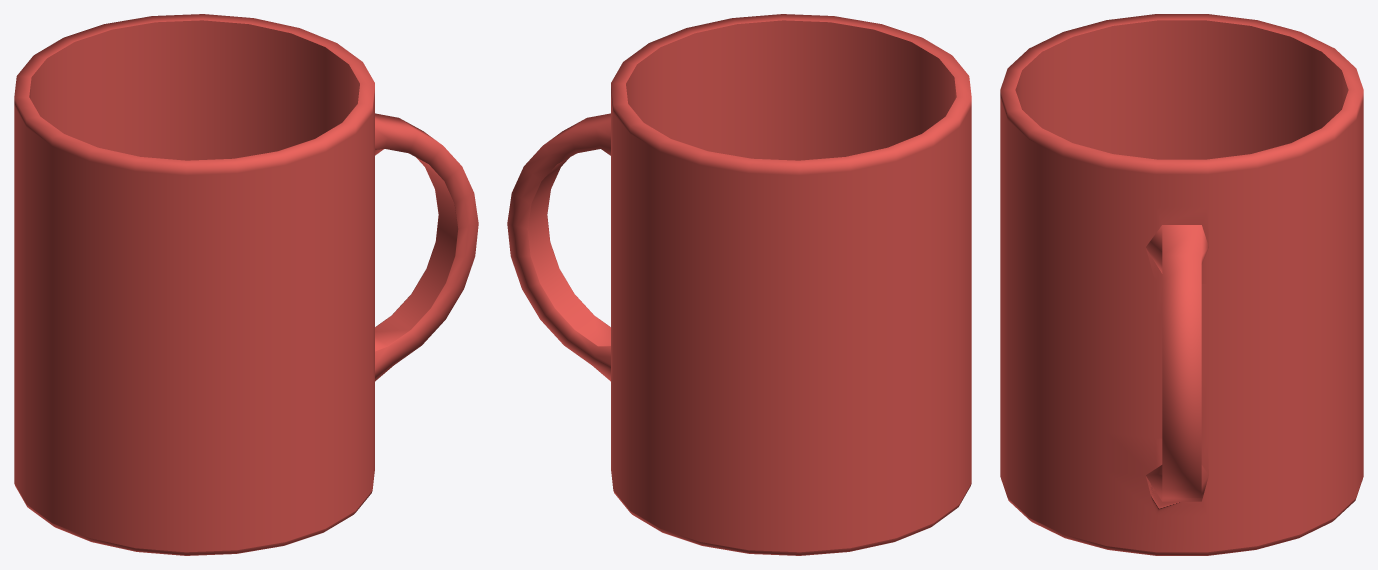
File: mug.gltf
3 views of the same model, side by side, from view 1: azimuth 30°, elevation 25°; view 2: azimuth 150°, elevation 25°; view 3: azimuth 270°, elevation 25° (orthographic).
Parts seen in each view (by area): view 1: Body, Top_Band, Bot_Band, Handle, Rim, Mid_Band, Base; view 2: Body, Top_Band, Bot_Band, Handle, Rim, Mid_Band, Base; view 3: Body, Top_Band, Bot_Band, Handle, Rim, Mid_Band, Base.
Boxes of the visible parts, x1=… form: Body: x1=14, y1=20, x2=374, y2=552; Top_Band: x1=14, y1=204, x2=374, y2=355; Bot_Band: x1=14, y1=287, x2=374, y2=438; Handle: x1=375, y1=113, x2=478, y2=381; Rim: x1=14, y1=14, x2=374, y2=175; Mid_Band: x1=14, y1=274, x2=374, y2=368; Base: x1=14, y1=483, x2=372, y2=555; Body: x1=611, y1=20, x2=971, y2=552; Top_Band: x1=611, y1=204, x2=971, y2=355; Bot_Band: x1=611, y1=287, x2=971, y2=438; Handle: x1=507, y1=113, x2=610, y2=381; Rim: x1=611, y1=14, x2=971, y2=175; Mid_Band: x1=611, y1=274, x2=971, y2=368; Base: x1=613, y1=483, x2=971, y2=555; Body: x1=1000, y1=20, x2=1363, y2=552; Top_Band: x1=1000, y1=209, x2=1363, y2=354; Bot_Band: x1=1000, y1=293, x2=1363, y2=438; Handle: x1=1146, y1=225, x2=1208, y2=501; Rim: x1=1000, y1=14, x2=1363, y2=174; Mid_Band: x1=1000, y1=280, x2=1363, y2=367; Base: x1=1001, y1=480, x2=1362, y2=555.
Size of the model in its own units: 0.1149 by 0.1 by 0.084.
